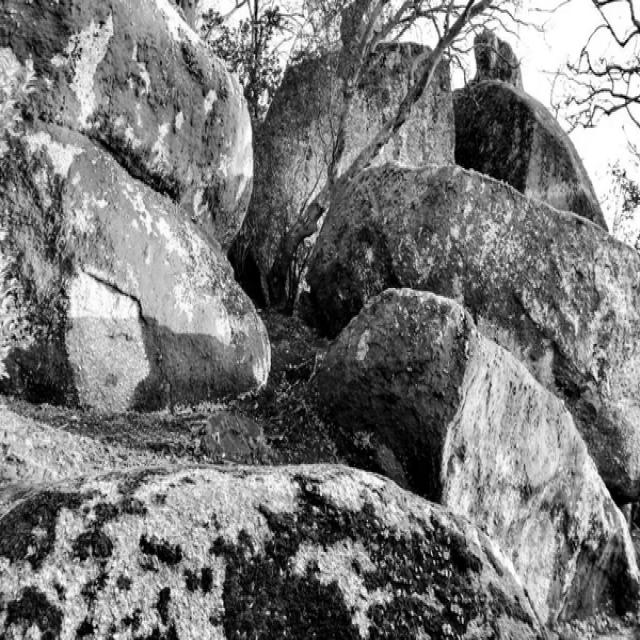Stone: (304, 163, 640, 500), (0, 2, 270, 411), (314, 291, 640, 621), (0, 469, 543, 640), (241, 38, 456, 286), (454, 29, 609, 228)
